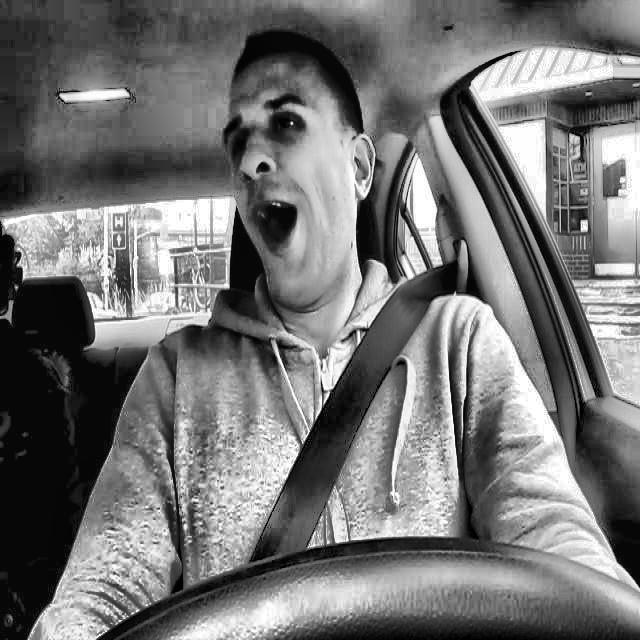open_eyes: (262, 105, 315, 149)
open_mouth: (235, 181, 317, 275)
